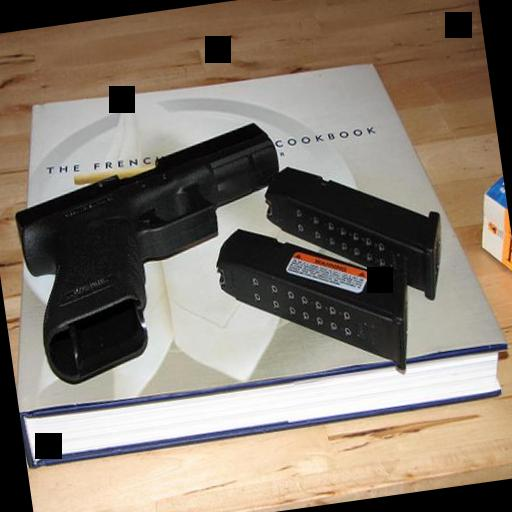Handgun: (2, 117, 302, 385)
